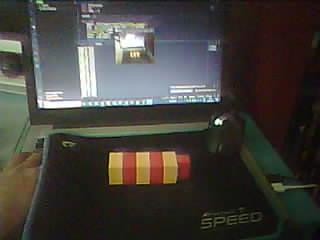lego: (108, 149, 192, 185)
